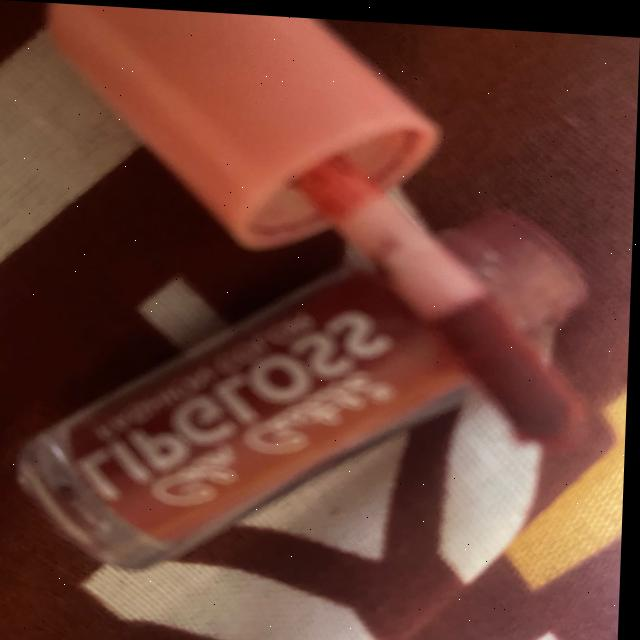lip gloss: (5, 174, 612, 597)
